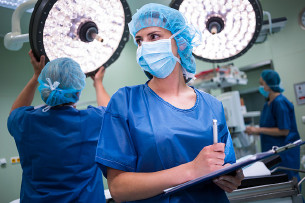face_mask: (134, 21, 176, 77)
